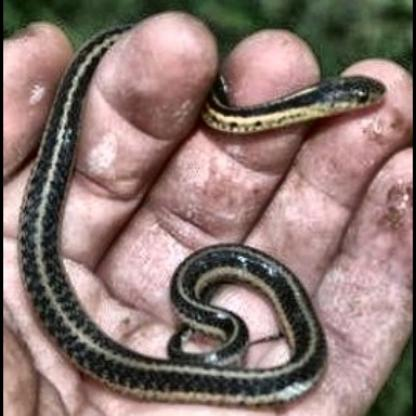Snake: (9, 160, 331, 412)
